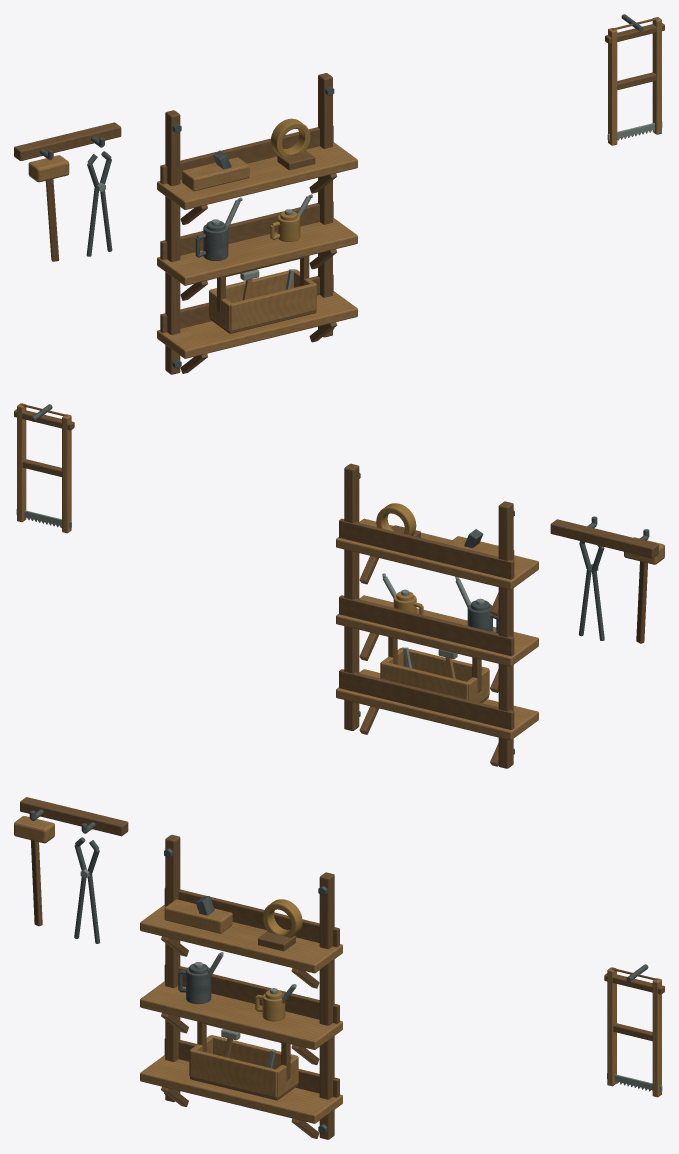
The model's file is workwall_props.glb.
3 views of the same model, one above another, from view 1: azimuth 30°, elevation 25°; view 2: azimuth 150°, elevation 25°; view 3: azimuth 330°, elevation 25° (orthographic).
Visible parts, largest first — view 1: 01_Three_tier_tool_shelf, 02_Left_wall_hung_tools, 03_Right_wall_frame_saw; view 2: 01_Three_tier_tool_shelf, 02_Left_wall_hung_tools, 03_Right_wall_frame_saw; view 3: 01_Three_tier_tool_shelf, 02_Left_wall_hung_tools, 03_Right_wall_frame_saw.
Boxes of the visible parts, <box> form: 01_Three_tier_tool_shelf: <box>157,73,357,374</box>; 02_Left_wall_hung_tools: <box>14,122,121,261</box>; 03_Right_wall_frame_saw: <box>605,14,664,145</box>; 01_Three_tier_tool_shelf: <box>336,463,538,768</box>; 02_Left_wall_hung_tools: <box>550,516,664,643</box>; 03_Right_wall_frame_saw: <box>14,403,74,533</box>; 01_Three_tier_tool_shelf: <box>140,835,342,1139</box>; 02_Left_wall_hung_tools: <box>14,797,128,943</box>; 03_Right_wall_frame_saw: <box>604,964,664,1097</box>.
Size of the model in its own units: 4.86 by 1.91 by 0.41.
5 materials, 5 textured.
